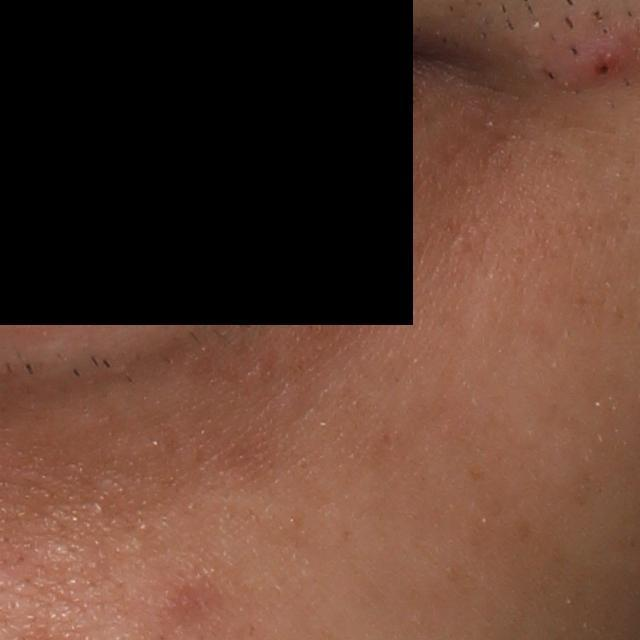papule: (566, 33, 630, 91)
